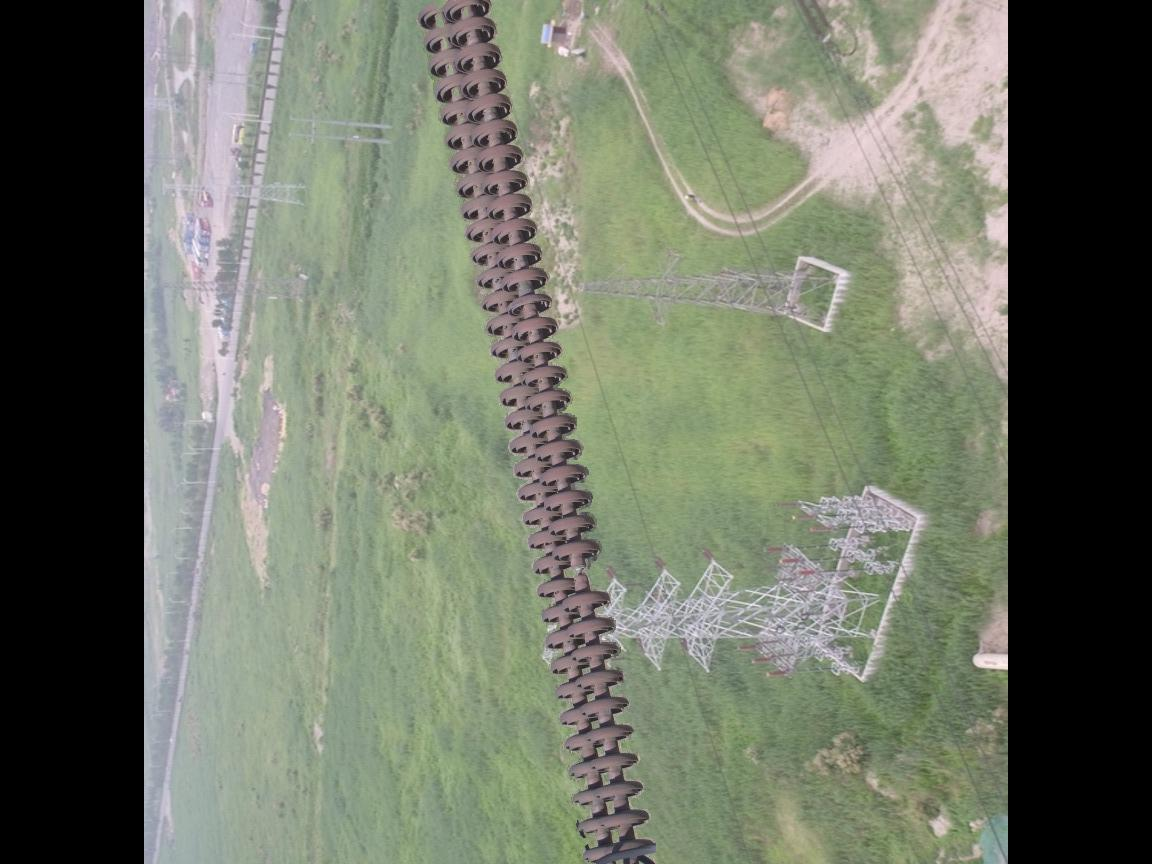insulator: (414, 1, 662, 864)
insulator_stringdrop: (551, 534, 614, 614)
